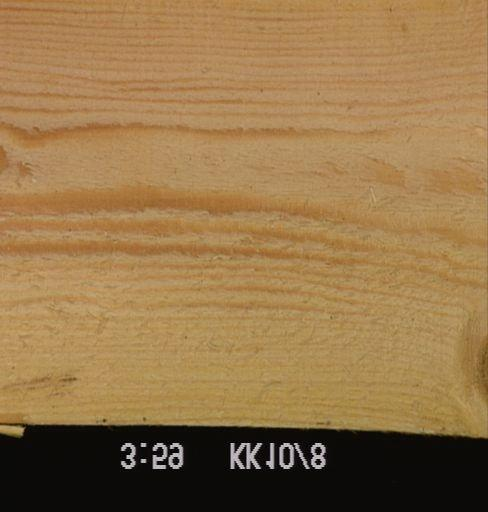sound_knot: (455, 316, 486, 425)
wave: (0, 407, 35, 425)
